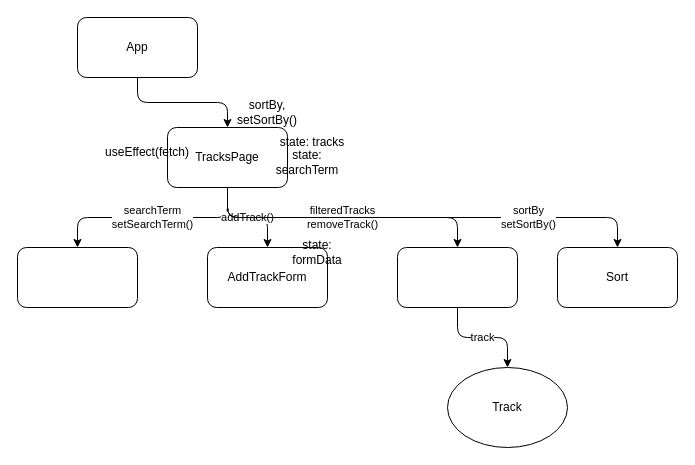
The diagram is 695 pixels wide and 465 high, and some of its shapes have lost their labels. Here are the shapes that lost their labels. From the top down, the box of each, then its label:
(16, 246, 138, 308): Search
(396, 246, 518, 308): TrackList
